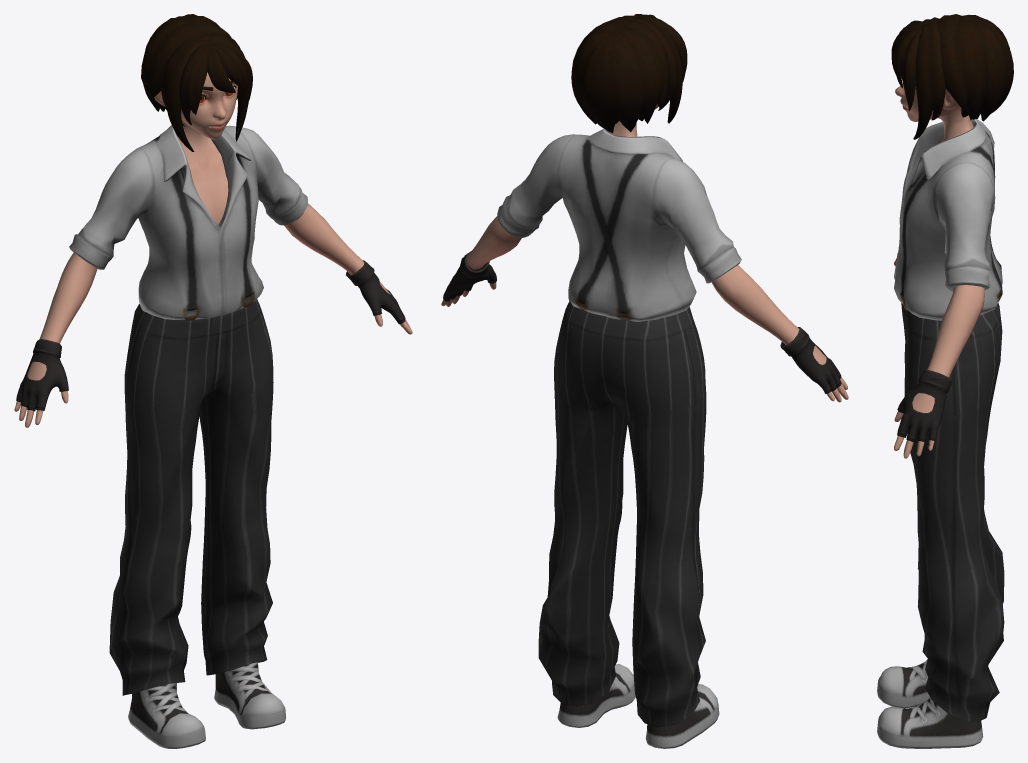
Rendered from StaffAsianWoman_Mesh.obj.
3 renders of one model, left to right at view 1: azimuth 30°, elevation 25°; view 2: azimuth 150°, elevation 25°; view 3: azimuth 270°, elevation 25°, orthographic. The views are drawn at different scales.
Parts seen in each view (by area): view 1: StaffAsianWoman_Mesh_0; view 2: StaffAsianWoman_Mesh_0; view 3: StaffAsianWoman_Mesh_0.
Boxes of the visible parts, box(x1,y1,x2,y2) form: StaffAsianWoman_Mesh_0: box(14, 14, 412, 748); StaffAsianWoman_Mesh_0: box(441, 14, 848, 748); StaffAsianWoman_Mesh_0: box(877, 14, 1013, 748).
Size of the model in its own units: 1.06 by 1.8 by 0.3191.
Materials: 1 (1 with a texture image).
